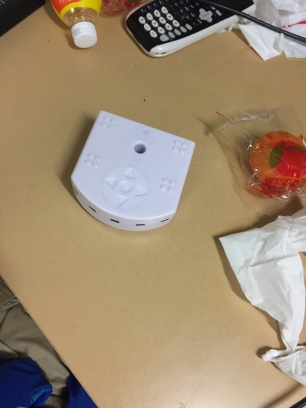thymio: (64, 104, 201, 234)
